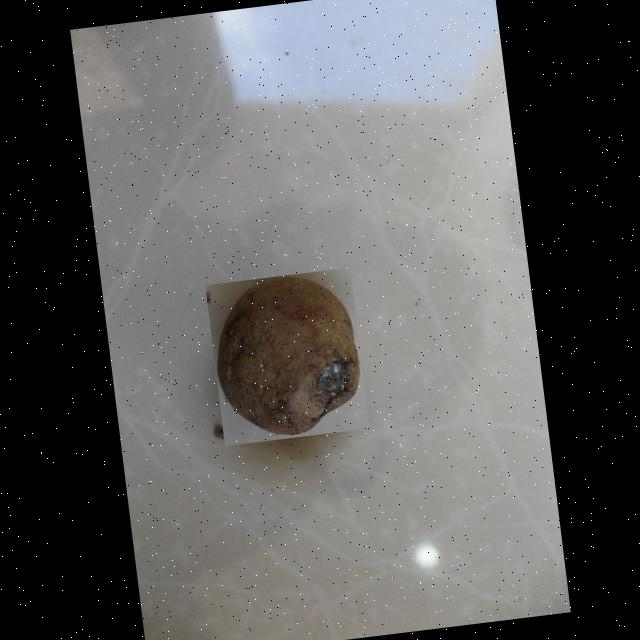Diseased-fungal potato: (204, 266, 370, 445)
